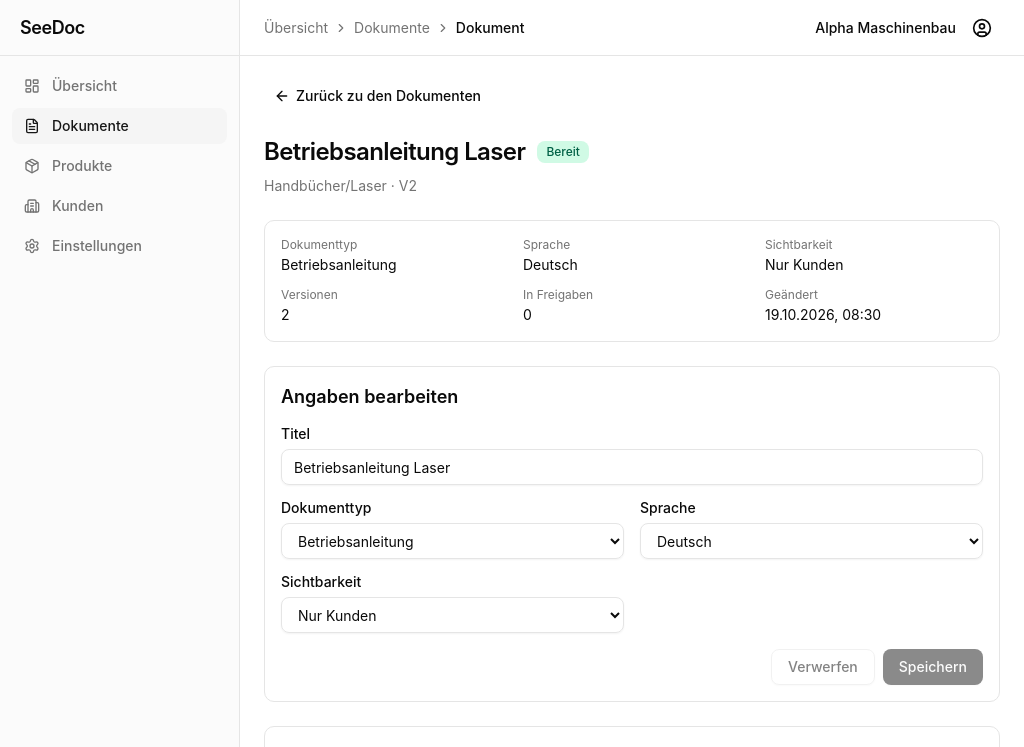
Scenario: DocumentDetailPage – details form › saves only the fields that changed
This screenshot has width=1024, height=747.
Expected: the button "Speichern" is disabled, [883,649,983,685]
Replace the text in the field labelled "Titel" with "  Laser – Betriebsanleitung " at (632, 467), box [281,449,983,485]
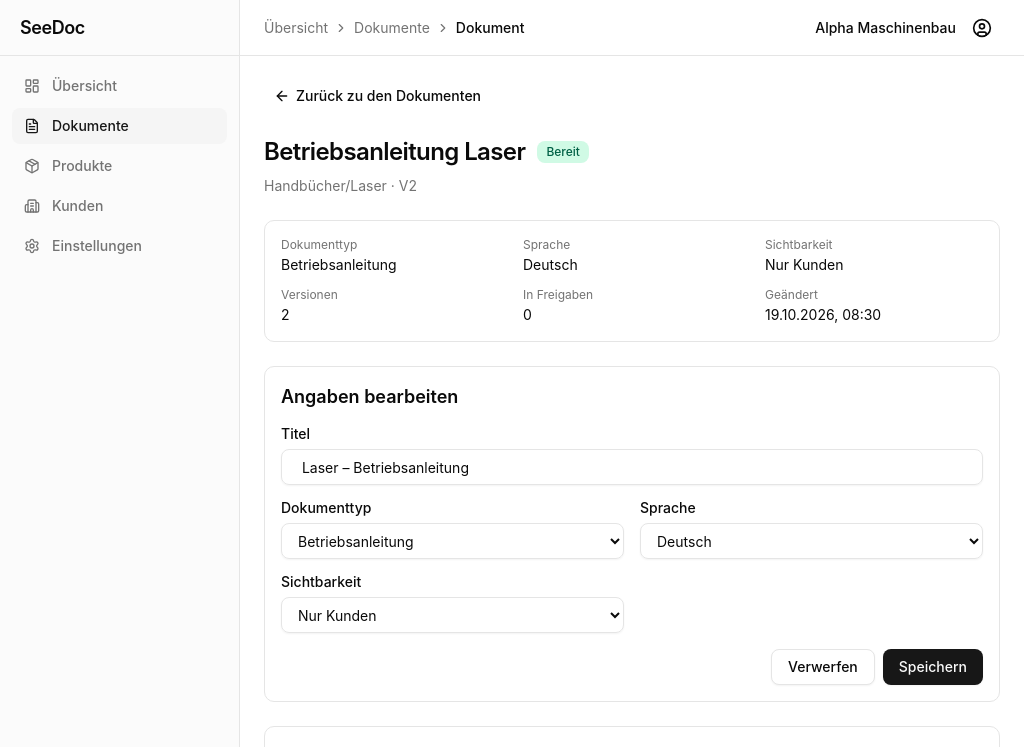
Select "Nur intern" in the dropdown labelled "Sichtbarkeit" at (452, 615), box [281,597,624,633]
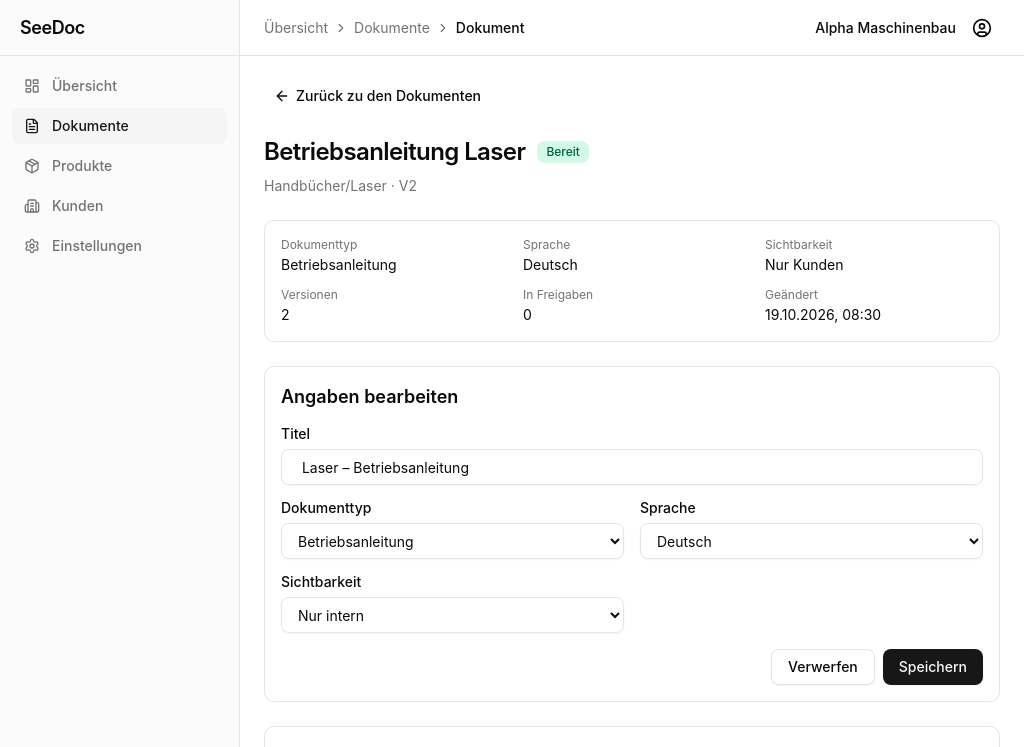
Click the button "Speichern".
click(933, 667)  # box [883,649,983,685]
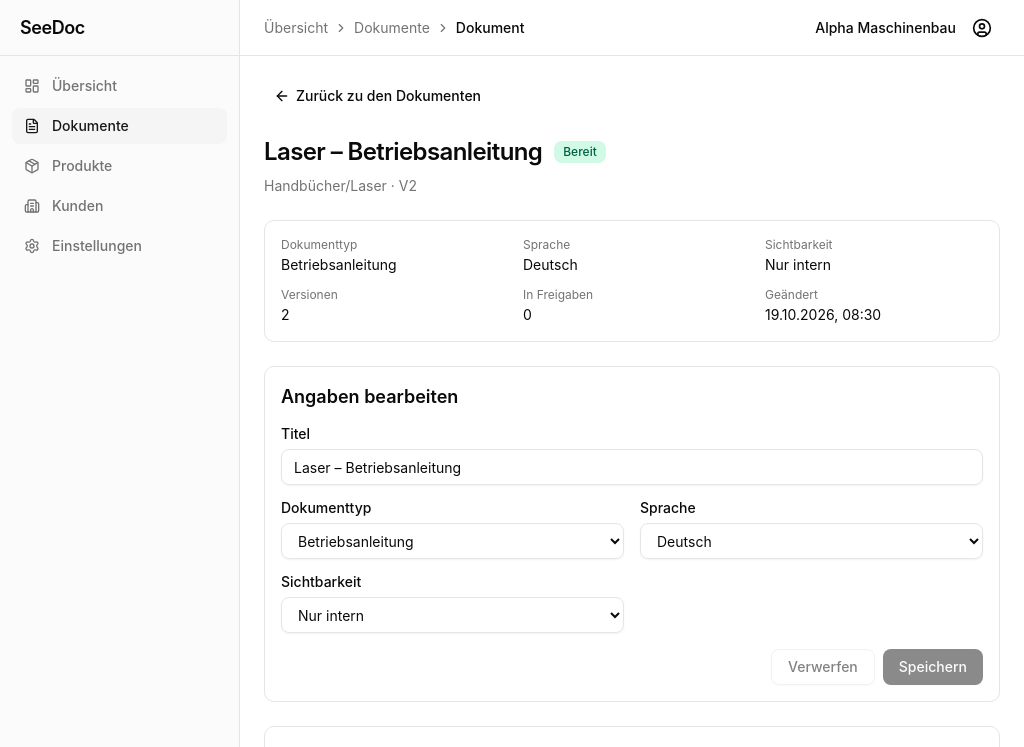
Now the heading "Laser – Betriebsanleitung" is shown, box [264,136,542,168]
Now the button "Speichern" is disabled, box [883,649,983,685]
